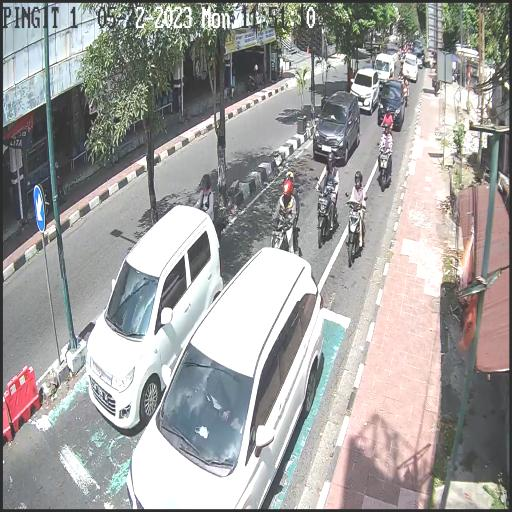mobil: (127, 240, 326, 512), (85, 209, 228, 427), (311, 87, 362, 167), (349, 65, 377, 112), (378, 81, 403, 129), (375, 52, 394, 84), (404, 52, 419, 81)
motor: (340, 186, 369, 268), (268, 202, 306, 263), (315, 176, 339, 254), (376, 140, 396, 195)
